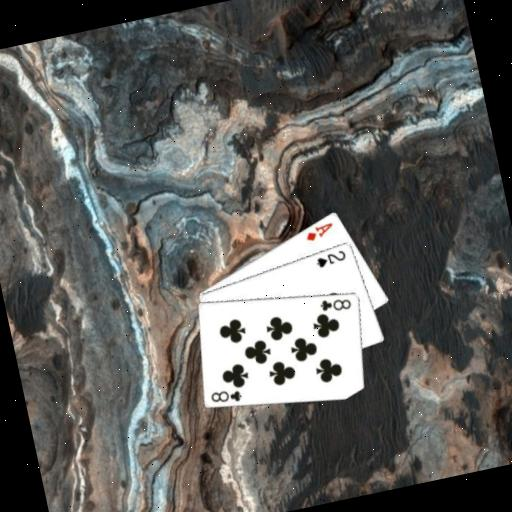2S: (312, 245, 349, 269)
8C: (316, 291, 354, 316), (206, 383, 244, 408)
AD: (300, 218, 336, 243)
